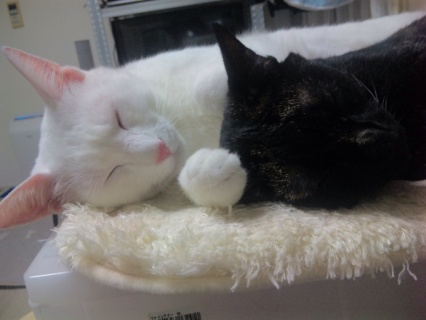Cat: (0, 11, 425, 230), (207, 16, 423, 210)
